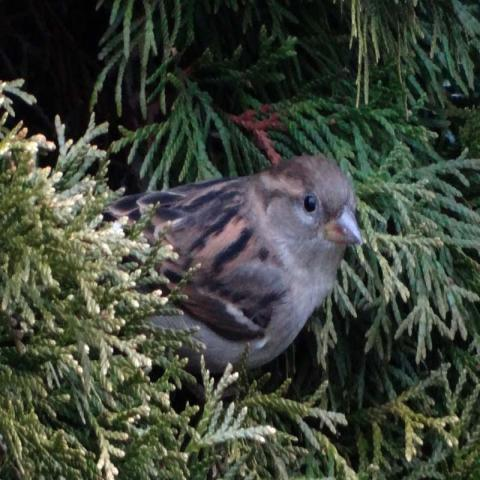bird: (90, 150, 364, 394)
